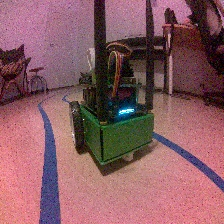rob: (67, 47, 155, 166)
